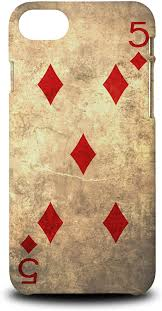five of diamonds: (8, 11, 162, 299)
